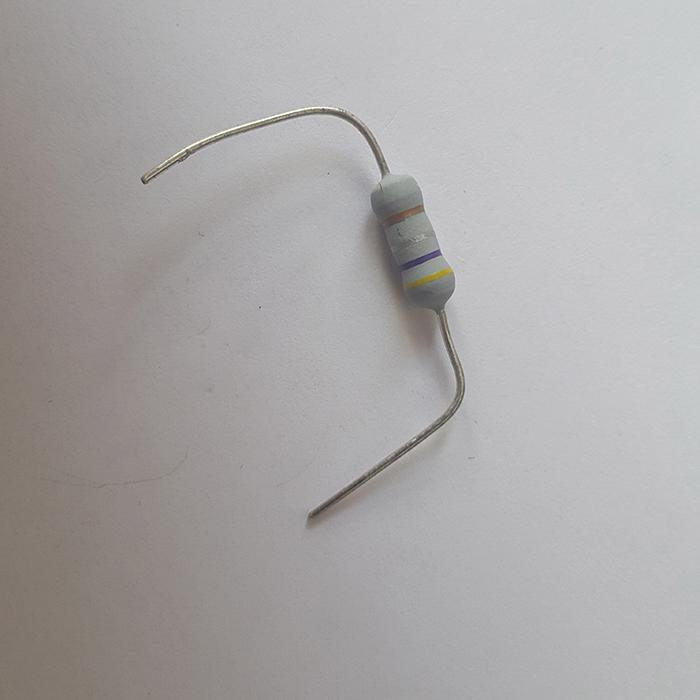resistor: (371, 170, 456, 312)
